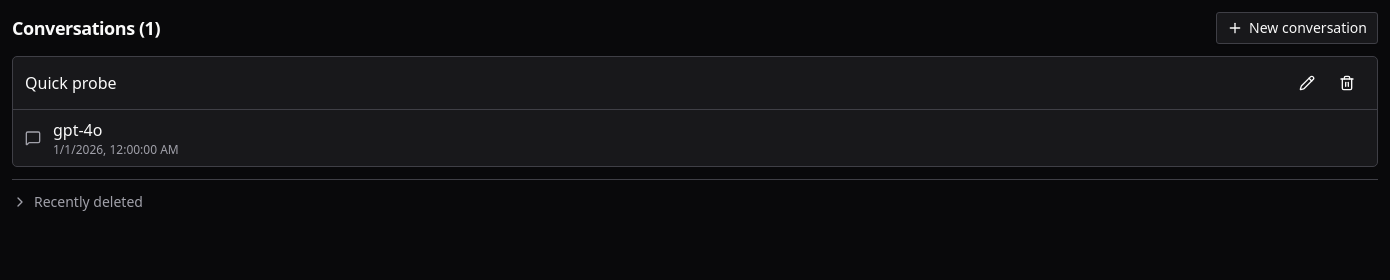
Scenario: ConversationsSection — recently deleted › says so when nothing was deleted
This screenshot has width=1390, height=280.
Click the button "Recently deleted" at {"x": 77, "y": 202}, box [12,192,143,212]
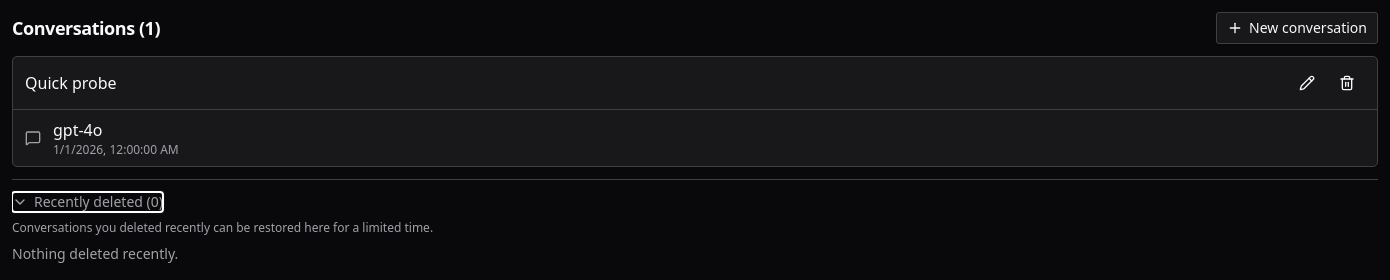
Now the text "Nothing deleted recently." is shown, box [12,244,178,263]
